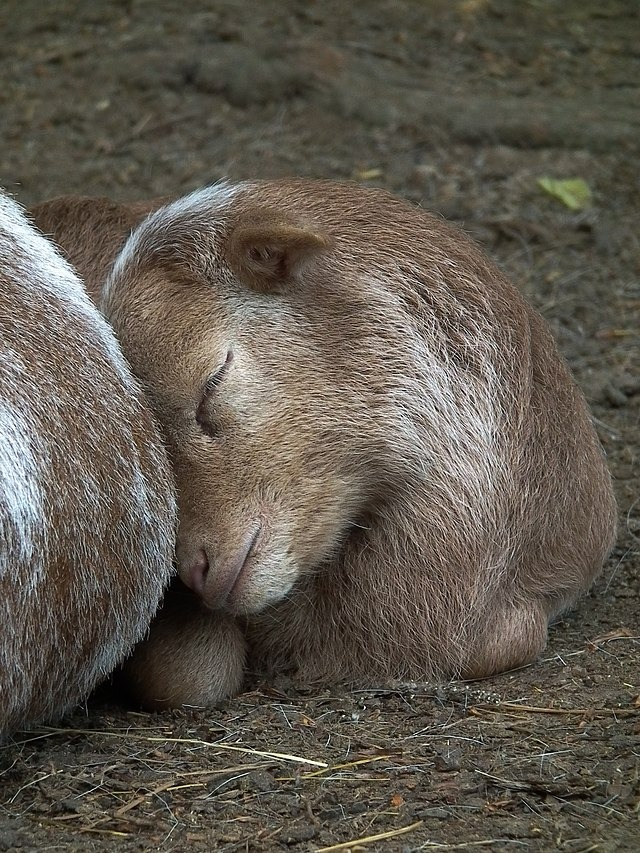resting: (27, 177, 621, 713)
